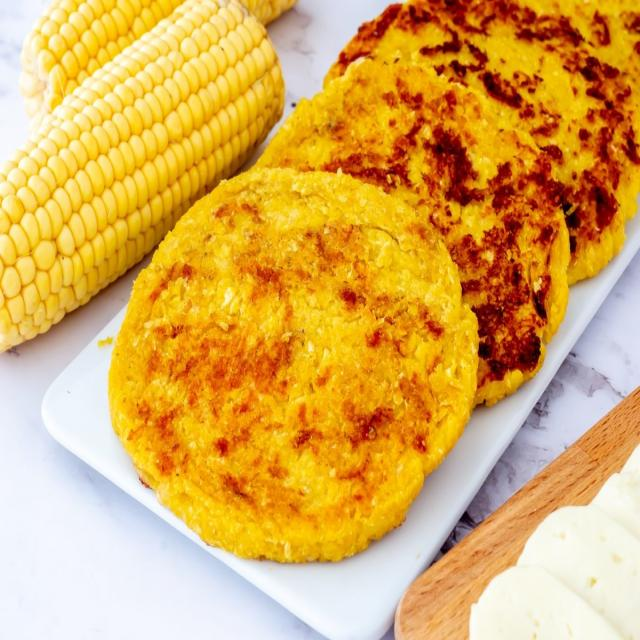arepa: (105, 165, 480, 567)
